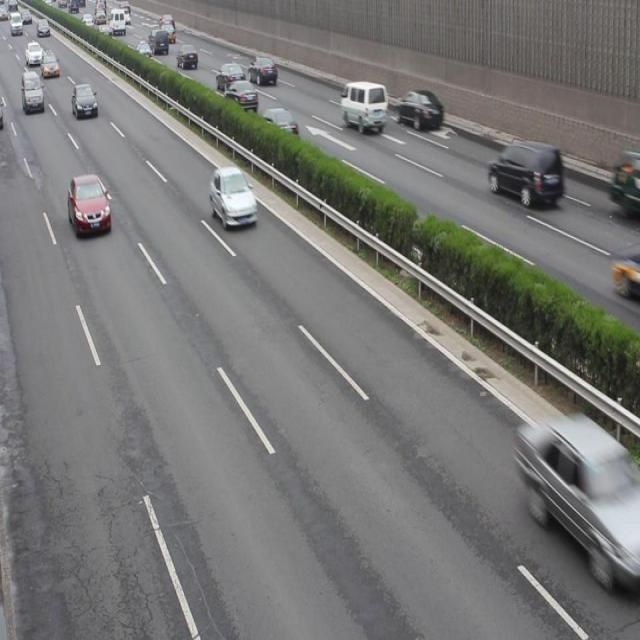car: (516, 412, 640, 574), (210, 167, 258, 230), (68, 174, 111, 236), (397, 88, 441, 131), (610, 251, 640, 301), (260, 107, 298, 141), (223, 81, 258, 110), (72, 83, 98, 118), (216, 63, 244, 93), (248, 58, 276, 87), (148, 27, 170, 52), (177, 45, 198, 68), (41, 50, 60, 74), (26, 42, 44, 63), (135, 41, 152, 62)
truck: (487, 142, 564, 208), (341, 82, 386, 132), (610, 153, 640, 216), (22, 70, 44, 111), (160, 21, 175, 42)
